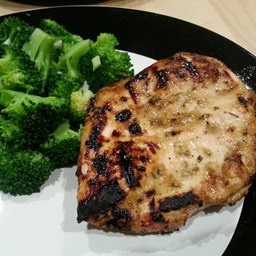background: (0, 6, 102, 94)
